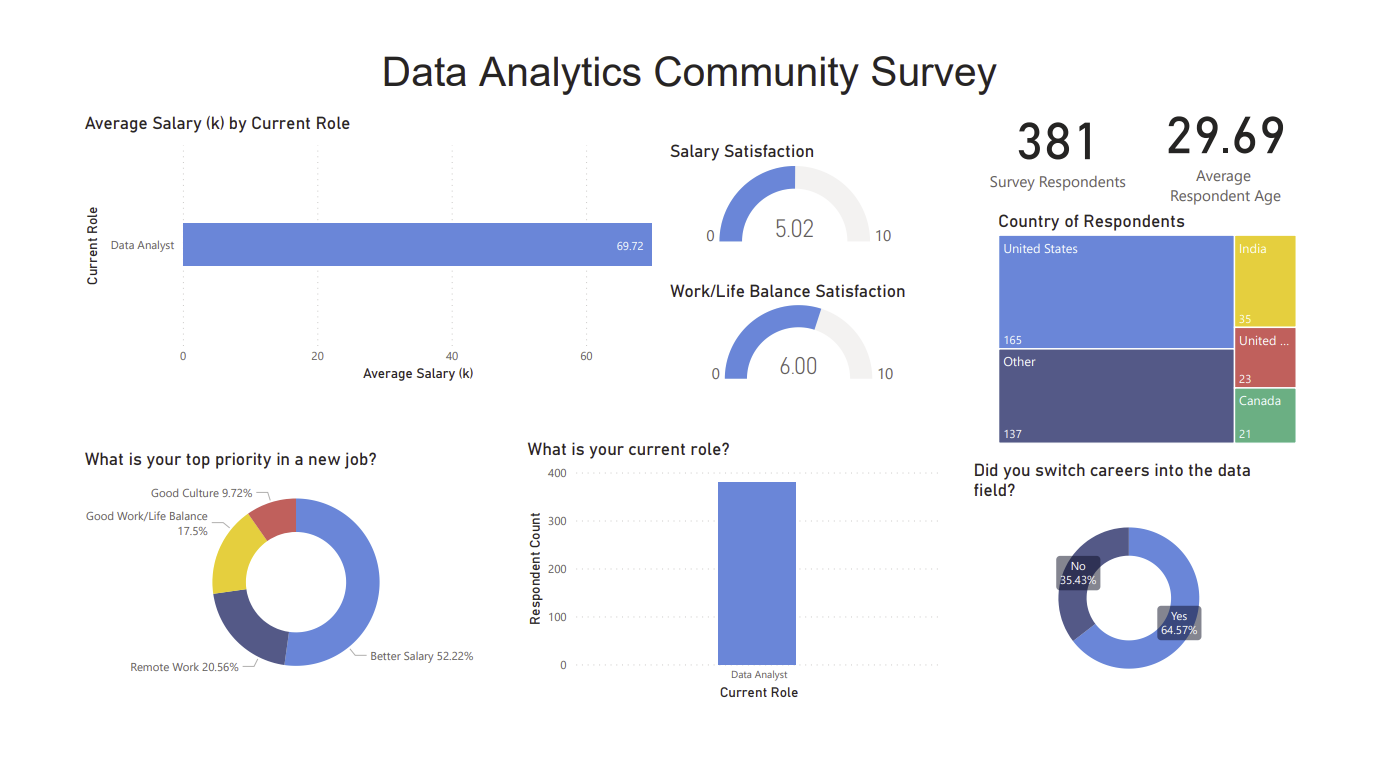

This screenshot's page, from the dashboard's own definition file:
{"tool":"powerbi","page":{"name":"Page 1","canvas":[1280,720],"ordinal":0},"visuals":[{"type":"textbox","box":[9.7,0,1270.3,72],"z":0},{"type":"card","fields":{"Values":["Count(Data Professional Survey.Unique ID)"]},"box":[957.8,35.6,165,139.1],"z":1000},{"type":"card","fields":{"Values":["Avg(Data Professional Survey.Q10 - Current Age)"]},"box":[1122.9,12.9,156.9,182.8],"z":2000},{"type":"donutChart","title":"Did you switch careers into the data field?","fields":{"Category":["Data Professional Survey.Q2 - Did you switch careers into Data?"],"Y":["CountNonNull(Data Professional Survey.Unique ID)"]},"box":[932,435.2,334.9,247.6],"z":3000},{"type":"barChart","fields":{"Category":["Data Professional Survey.Q1 - Which Title Best Fits your Current Role?.1"],"Y":["Avg(Data Professional Survey.Q3 - Current Yearly Salary (in USD) - Copy.2)"]},"box":[0,72.8,613.2,286.4],"z":4000},{"type":"treemap","title":"Country of Respondents","fields":{"Values":["CountNonNull(Data Professional Survey.Unique ID)"],"Group":["Data Professional Survey.Q11 - Which Country do you live in?.1"]},"box":[957.8,174.7,322,249.2],"z":5000},{"type":"donutChart","title":"What is your top priority in a new job?","fields":{"Category":["Data Professional Survey.Q8 - If you were to look for a new job today, what would be the most important thing to you?"],"Y":["CountNonNull(Data Professional Survey.Unique ID)"]},"box":[0,423.9,453,258.9],"z":6000},{"type":"gauge","title":"Work/Life Balance Satisfaction","fields":{"Y":["Avg(Data Professional Survey.Q6 - How Happy are you in your Current Position with the following? (Work/Life Balance))"],"MinValue":["Min(Data Professional Survey.Q6 - How Happy are you in your Current Position with the following? (Work/Life Balance))"],"MaxValue":["Max(Data Professional Survey.Q6 - How Happy are you in your Current Position with the following? (Work/Life Balance))"]},"box":[613.2,247.6,288,113.3],"z":7000},{"type":"gauge","title":"Salary Satisfaction","fields":{"Y":["Avg(Data Professional Survey.Q6 - How Happy are you in your Current Position with the following? (Upward Mobility))"],"MinValue":["Min(Data Professional Survey.Q6 - How Happy are you in your Current Position with the following? (Upward Mobility))"],"MaxValue":["Max(Data Professional Survey.Q6 - How Happy are you in your Current Position with the following? (Upward Mobility))"]},"box":[613.2,101.9,279.9,114.9],"z":8000},{"type":"columnChart","title":"What is your current role?","fields":{"Category":["Data Professional Survey.Q1 - Which Title Best Fits your Current Role?.1"],"Y":["CountNonNull(Data Professional Survey.Unique ID)"],"Series":["Data Professional Survey.Q1 - Which Title Best Fits your Current Role?.1"]},"box":[464.4,414.2,444.9,278.3],"z":9000}]}

Visuals, with their boxes in screenshot pixels (x1, y1, x2, y2), scaled from the page's 1280x720 canvas onto the 1382x768 screenshot:
textbox: [10,0,1381,77]
card - Count(Data Professional Survey.Unique ID): [1034,38,1212,186]
card - Avg(Data Professional Survey.Q10 - Current Age): [1212,14,1381,209]
"Did you switch careers into the data field?" donutChart: [1006,464,1368,728]
barChart - Data Professional Survey.Q1 - Which Title Best Fits your Current Role?.1 x Avg(Data Professional Survey.Q3 - Current Yearly Salary (in USD) - Copy.2): [0,78,662,383]
"Country of Respondents" treemap: [1034,186,1381,452]
"What is your top priority in a new job?" donutChart: [0,452,489,728]
"Work/Life Balance Satisfaction" gauge: [662,264,973,385]
"Salary Satisfaction" gauge: [662,109,964,231]
"What is your current role?" columnChart: [501,442,982,739]
